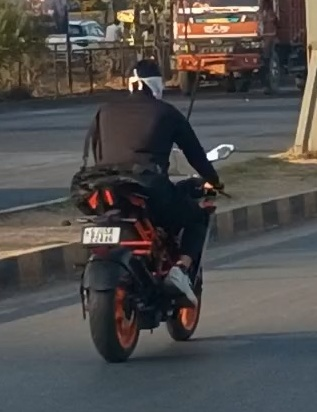BikeWithRider: (67, 57, 237, 366)
NoHelmet: (126, 59, 167, 105)
